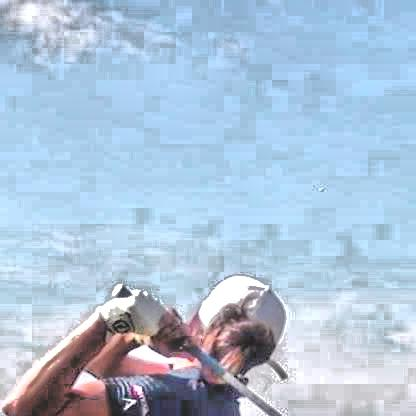golfball: (314, 184, 321, 191)
